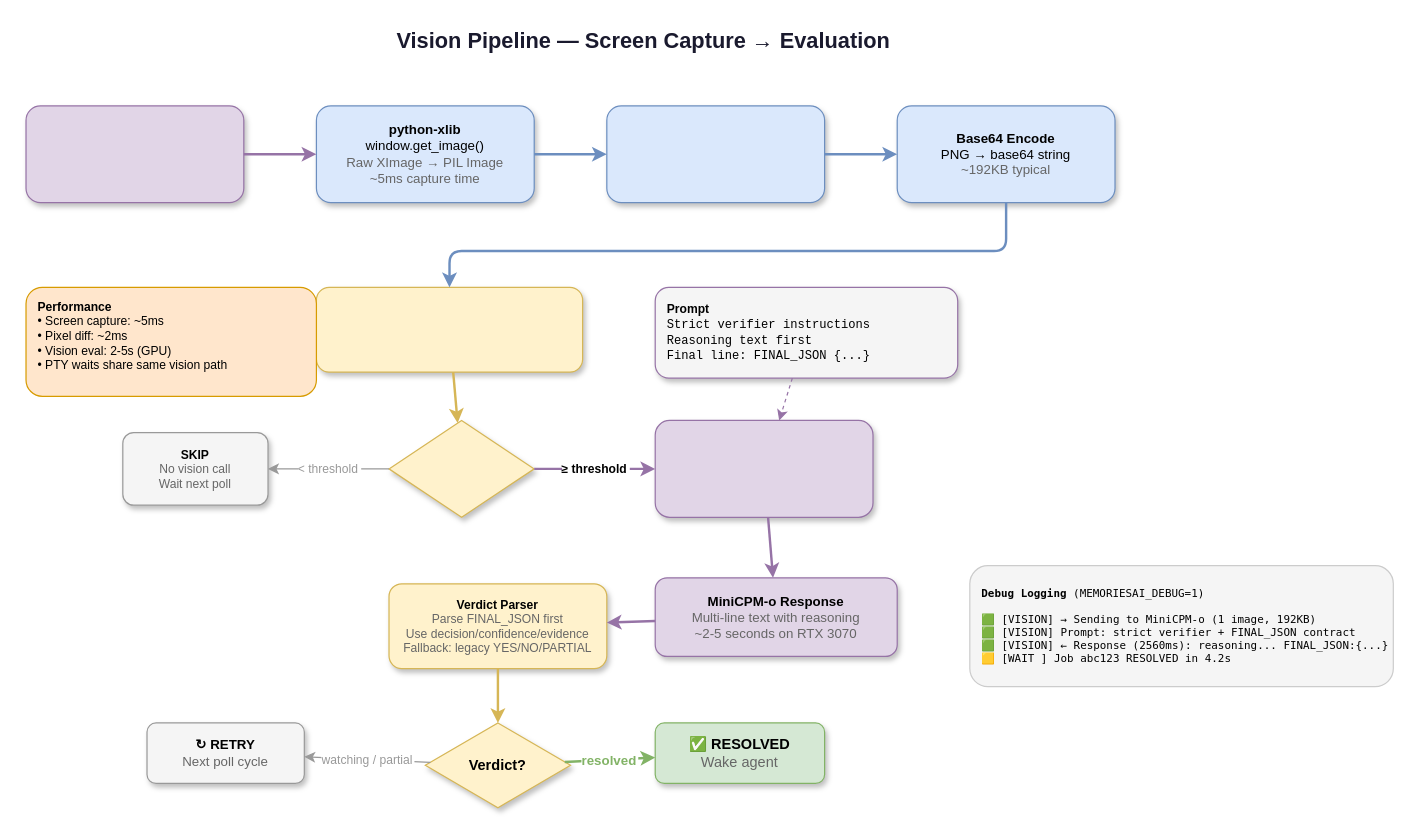
The diagram is 1414 pixels wide and 837 high, and some of its shapes have lost their labels. Each missing label, with the centre of its shape:
Changed ≥ threshold?: the point at 462,470
Ollama API :11434/api/chat model: minicpm-v RTX 3070 GPU: the point at 764,470
PixelDiffGate Compare with previous frame Pixel-by-pixel diff → % changed: the point at 450,331
Resize max dim → 1920px (FRAME_MAX_DIM config) Preserve aspect ratio: the point at 716,155
Xvfb :99 1920×1080×24 Virtual framebuffer running Firefox + XFCE4: the point at 135,155
